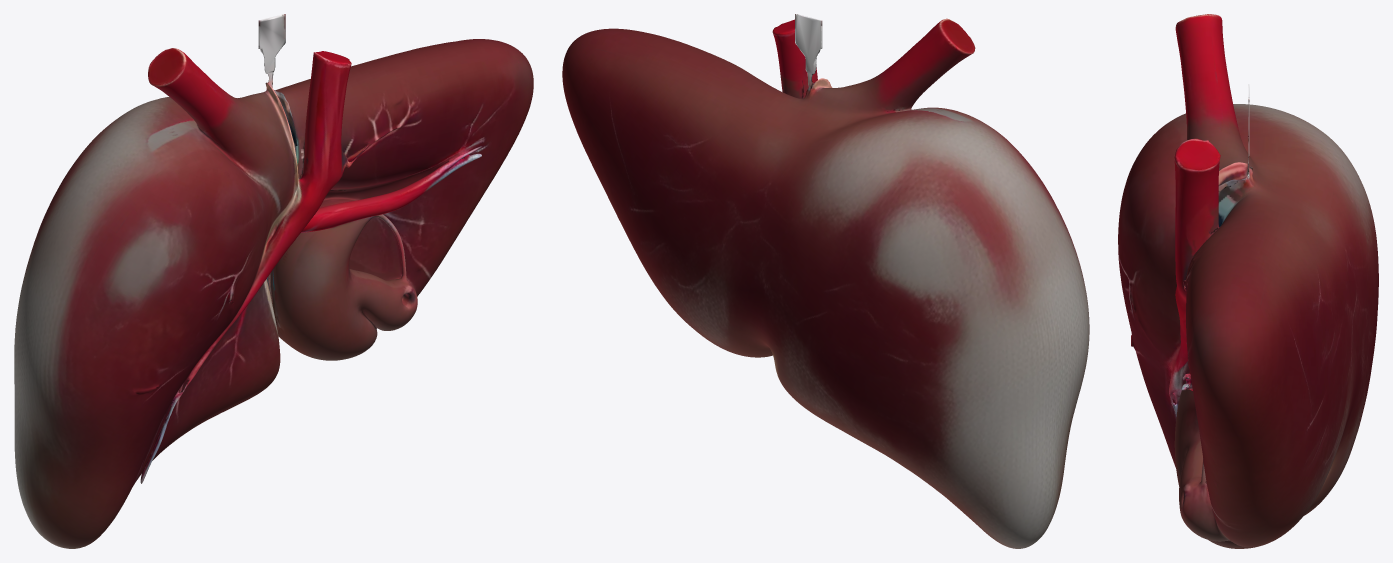
File: vet_v2_organ_cow_liver.glb
3 renders of one model, left to right at view 1: azimuth 30°, elevation 25°; view 2: azimuth 150°, elevation 25°; view 3: azimuth 270°, elevation 25°, orthographic. The views are drawn at different scales.
Parts seen in each view (by area): view 1: model; view 2: model; view 3: model.
Boxes of the visible parts, x1,y1,x2,y2 form: model: (14,14,533,548); model: (562,14,1089,548); model: (1118,14,1378,548).
Bounding box in the file's own units: 1.9 × 1.75 × 0.7133.
1 material, 1 textured.
